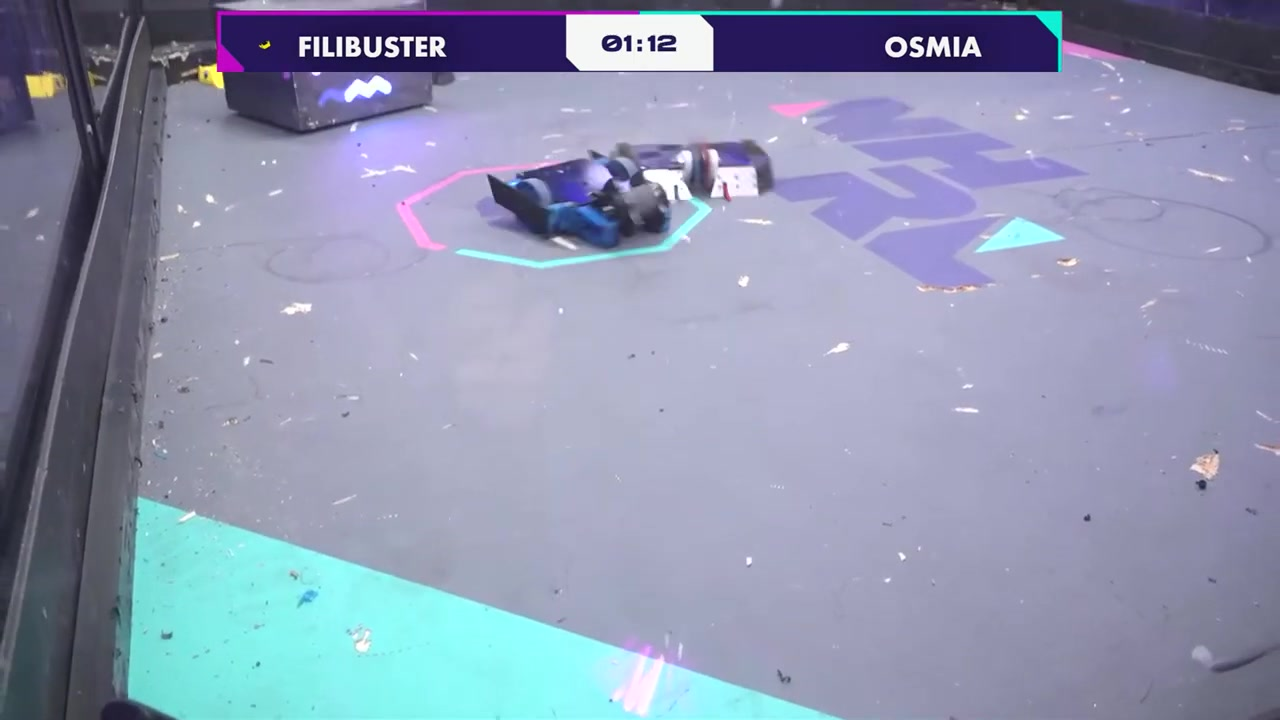combatbot: (486, 141, 674, 249), (611, 139, 775, 205)
housebot: (217, 3, 443, 131), (0, 70, 36, 151)
